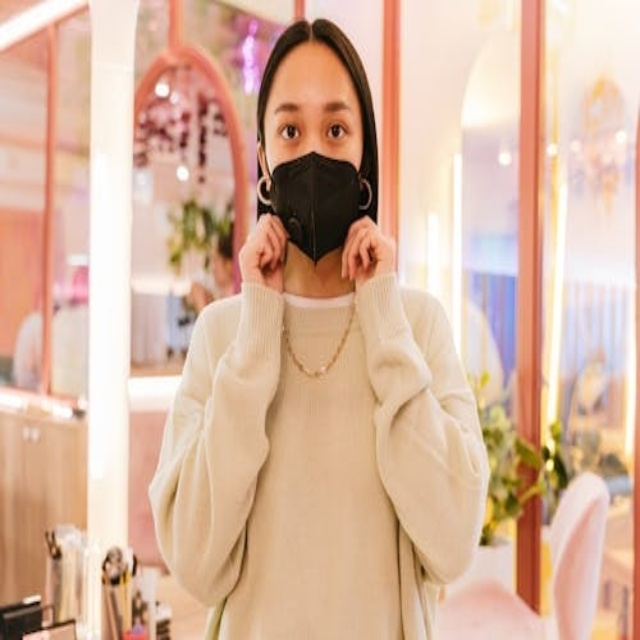Mascara: (263, 153, 369, 261)
Sin_gafas: (278, 123, 301, 141), (326, 122, 349, 140)
Sin_guantes: (224, 206, 294, 298), (341, 212, 394, 284)
